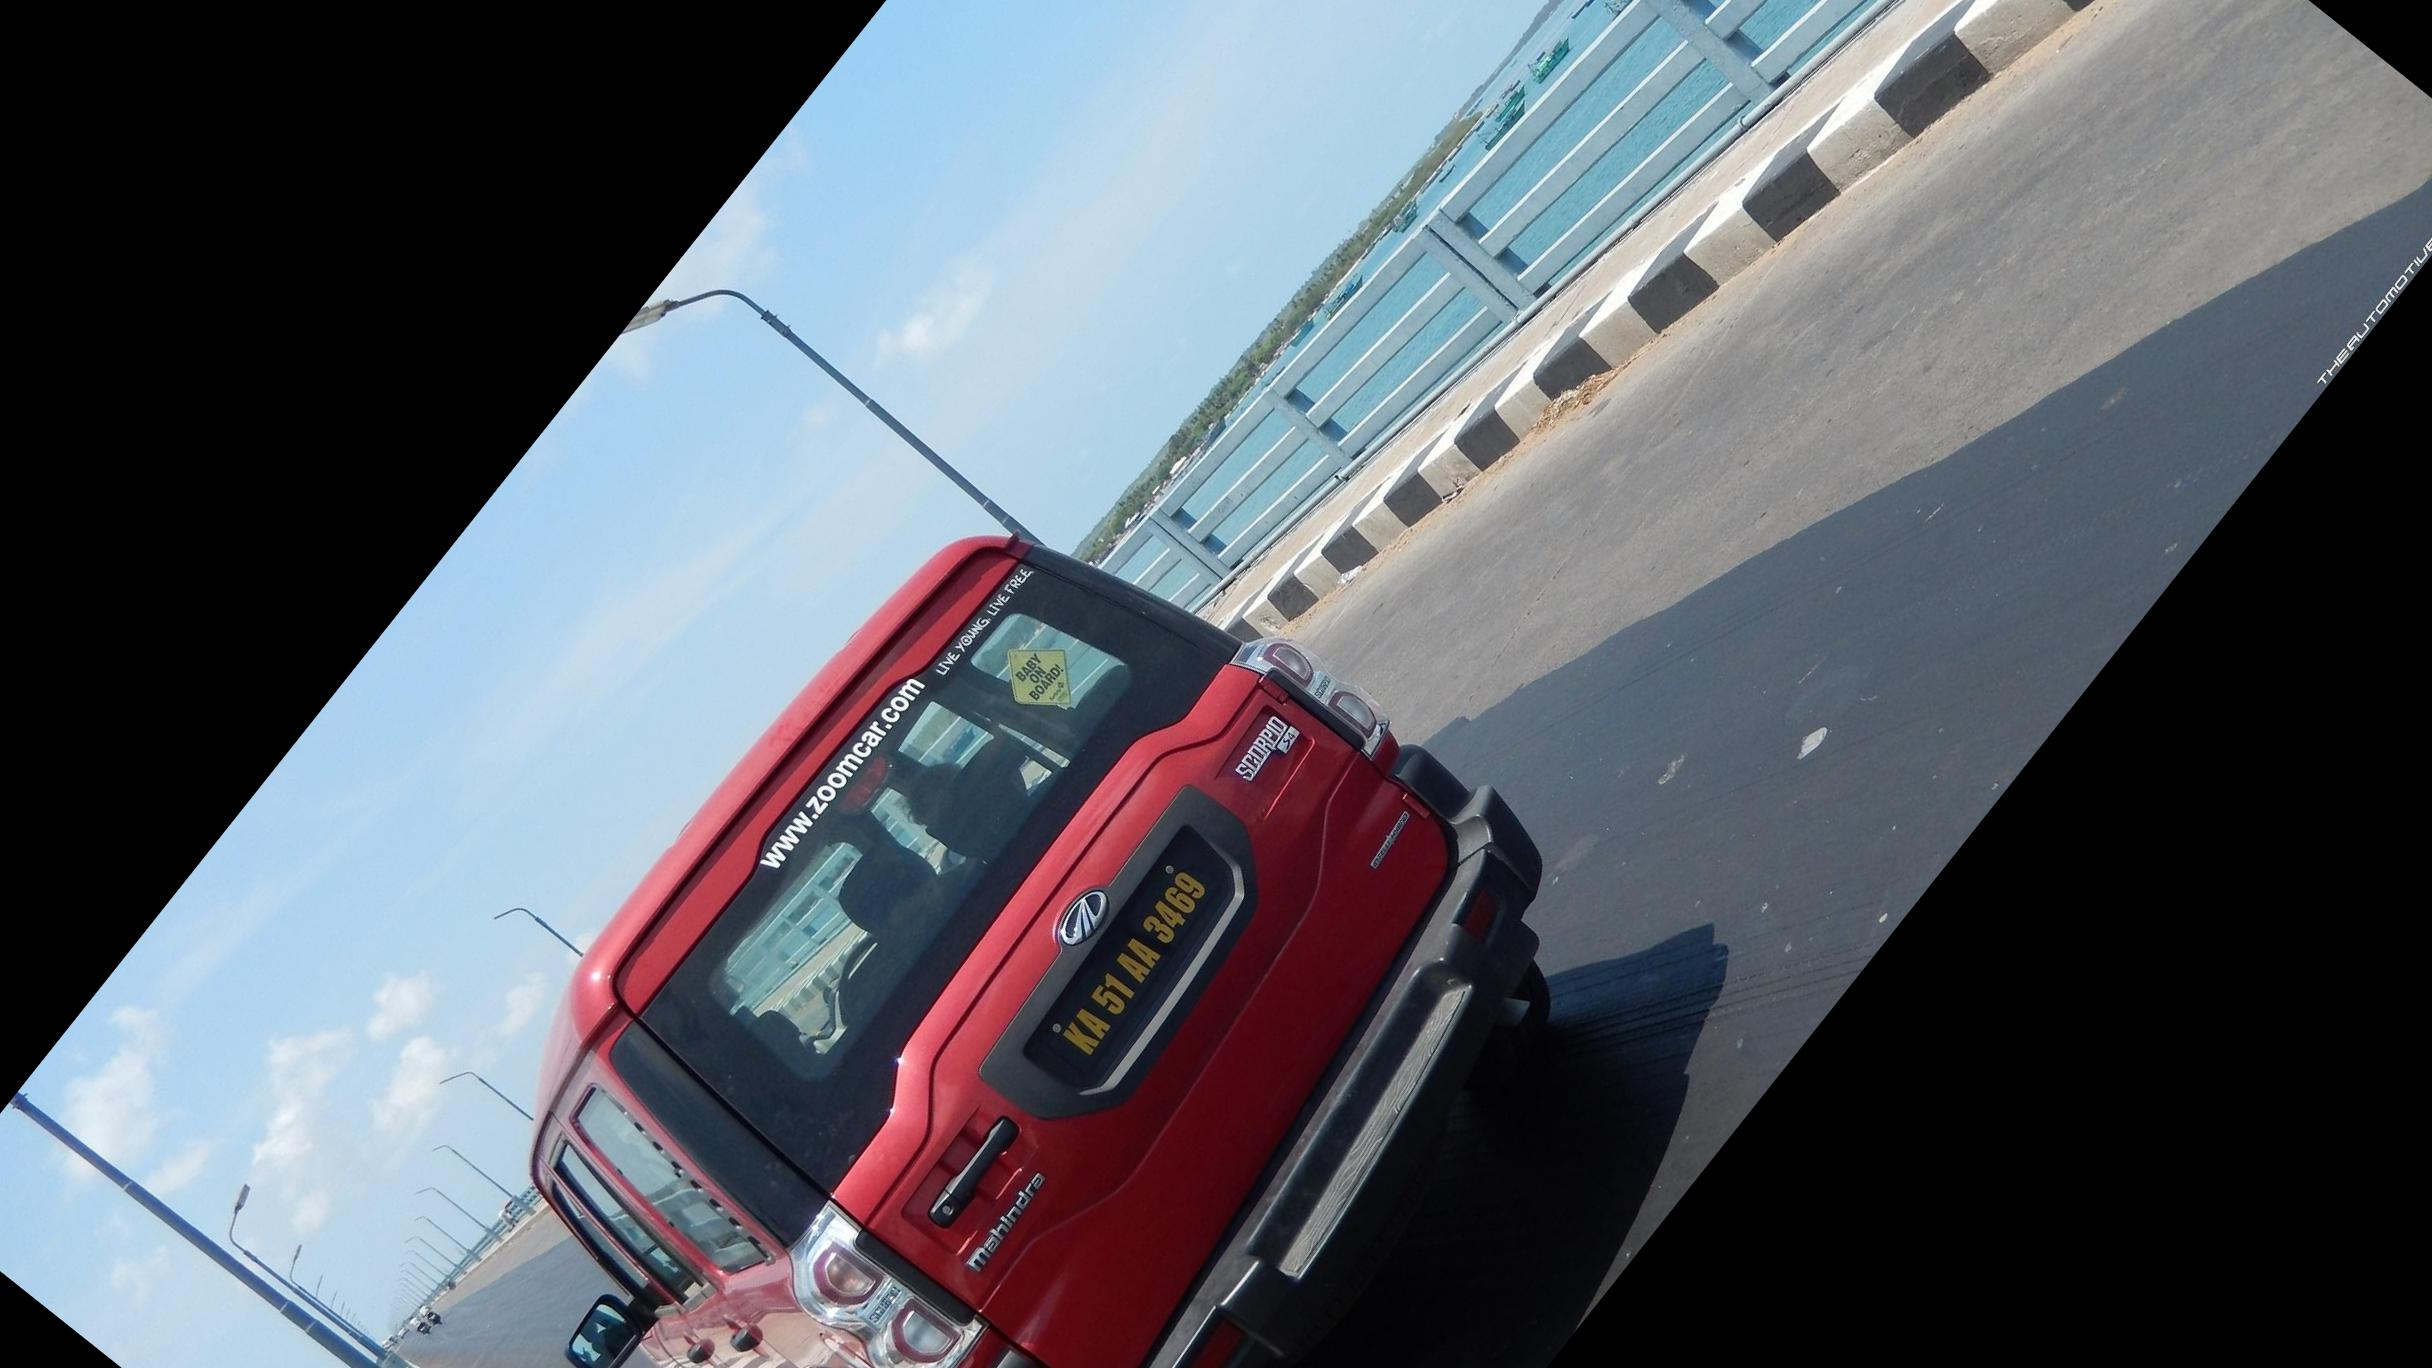plate: (969, 783, 1282, 1133)
